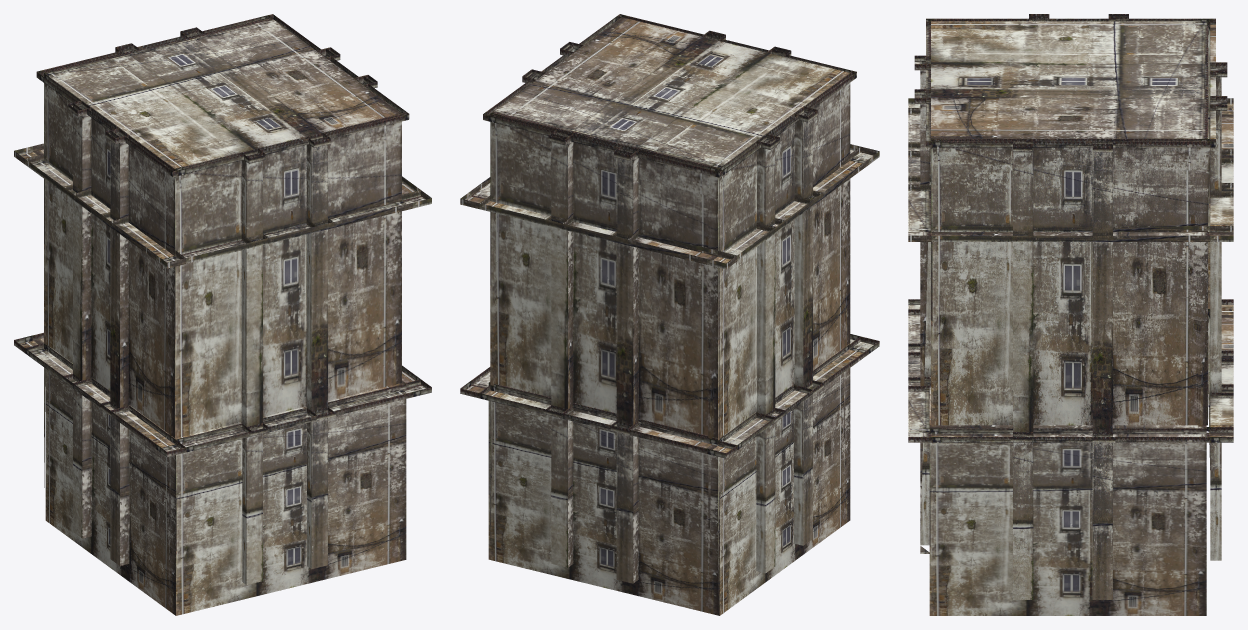
File: BagBuilding21_70.fbx
The picture shows the model from 3 angles, left to right: view 1: azimuth 30°, elevation 25°; view 2: azimuth 150°, elevation 25°; view 3: azimuth 270°, elevation 25°; orthographic projection. The views are drawn at different scales.
Parts seen in each view (by area): view 1: box70, main70, boxb70; view 2: box70, main70, boxb70; view 3: box70, main70, boxb70.
Part boxes in pixels (left/top/right/bottom): box70: left=44, top=18, right=401, bottom=437; main70: left=14, top=14, right=431, bottom=587; boxb70: left=45, top=344, right=406, bottom=615; box70: left=491, top=17, right=850, bottom=438; main70: left=460, top=14, right=879, bottom=594; boxb70: left=488, top=343, right=850, bottom=615; box70: left=931, top=21, right=1207, bottom=425; main70: left=908, top=14, right=1233, bottom=599; boxb70: left=929, top=377, right=1206, bottom=615.
Bounding box in the file's own units: 19.63 × 31.63 × 19.62.
